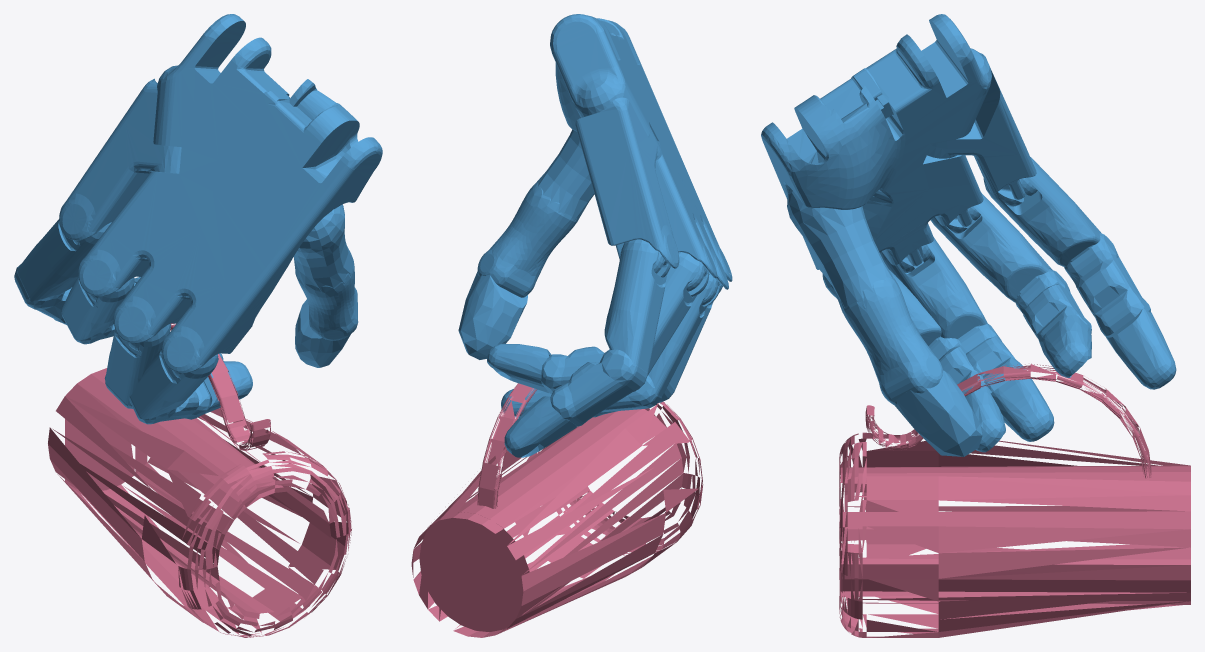
3 views of the same model, side by side, from view 1: azimuth 30°, elevation 25°; view 2: azimuth 150°, elevation 25°; view 3: azimuth 270°, elevation 25° (orthographic). The views are drawn at different scales.
Visible parts, largest first — view 1: 2; view 2: 2; view 3: 2.
Part boxes in pixels (box(x1,y1,x2,y2)): 2: box(14, 14, 382, 637); 2: box(411, 14, 732, 637); 2: box(761, 14, 1190, 637).
Bounding box in the file's own units: 0.1105 × 0.239 × 0.1519.
